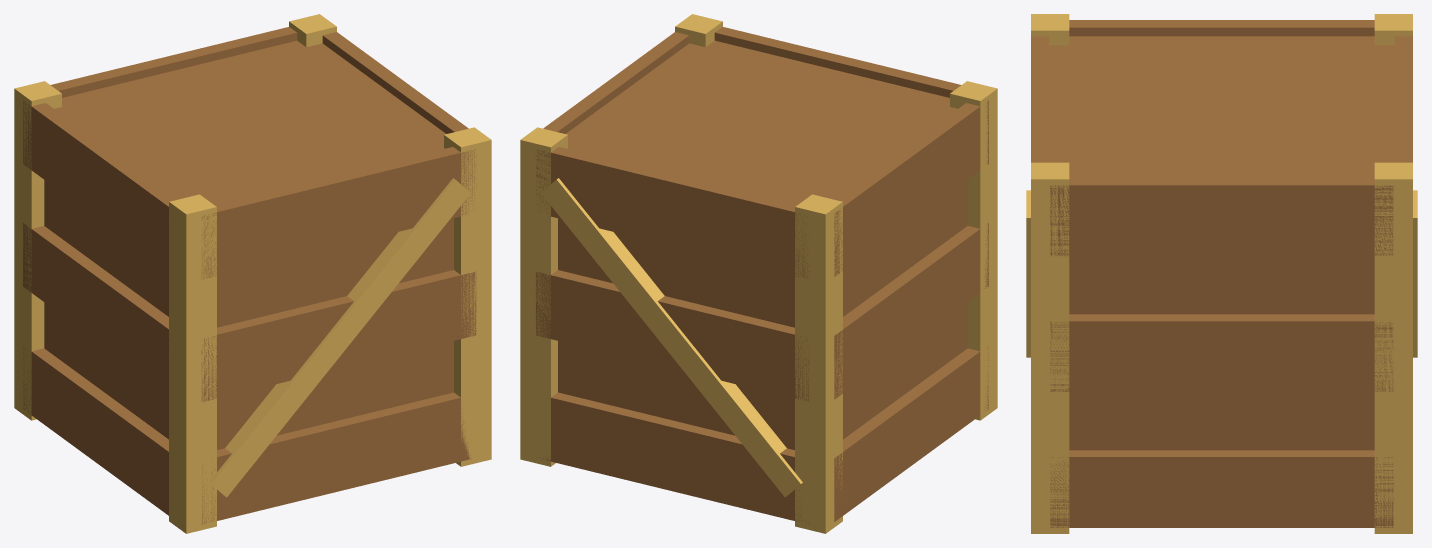
The model's file is P_crate.glb.
The picture shows the model from 3 angles, left to right: view 1: azimuth 30°, elevation 25°; view 2: azimuth 150°, elevation 25°; view 3: azimuth 270°, elevation 25°; orthographic projection. The views are drawn at different scales.
Visible parts, largest first — view 1: Slats, CrateCore, CornerPosts, DiagonalBraces; view 2: Slats, CrateCore, CornerPosts, DiagonalBraces; view 3: Slats, CrateCore, CornerPosts, DiagonalBraces.
Part boxes in pixels (bbox=[...]): Slats: bbox=[23, 27, 476, 524]; CrateCore: bbox=[44, 40, 453, 449]; CornerPosts: bbox=[14, 14, 491, 533]; DiagonalBraces: bbox=[209, 178, 470, 497]; Slats: bbox=[535, 27, 988, 523]; CrateCore: bbox=[558, 40, 967, 449]; CornerPosts: bbox=[520, 14, 997, 533]; DiagonalBraces: bbox=[541, 178, 802, 497]; Slats: bbox=[1031, 20, 1412, 527]; CrateCore: bbox=[1049, 36, 1394, 450]; CornerPosts: bbox=[1031, 14, 1412, 533]; DiagonalBraces: bbox=[1026, 190, 1417, 357].
Size of the model in its own units: 0.6 by 0.6 by 0.6.
